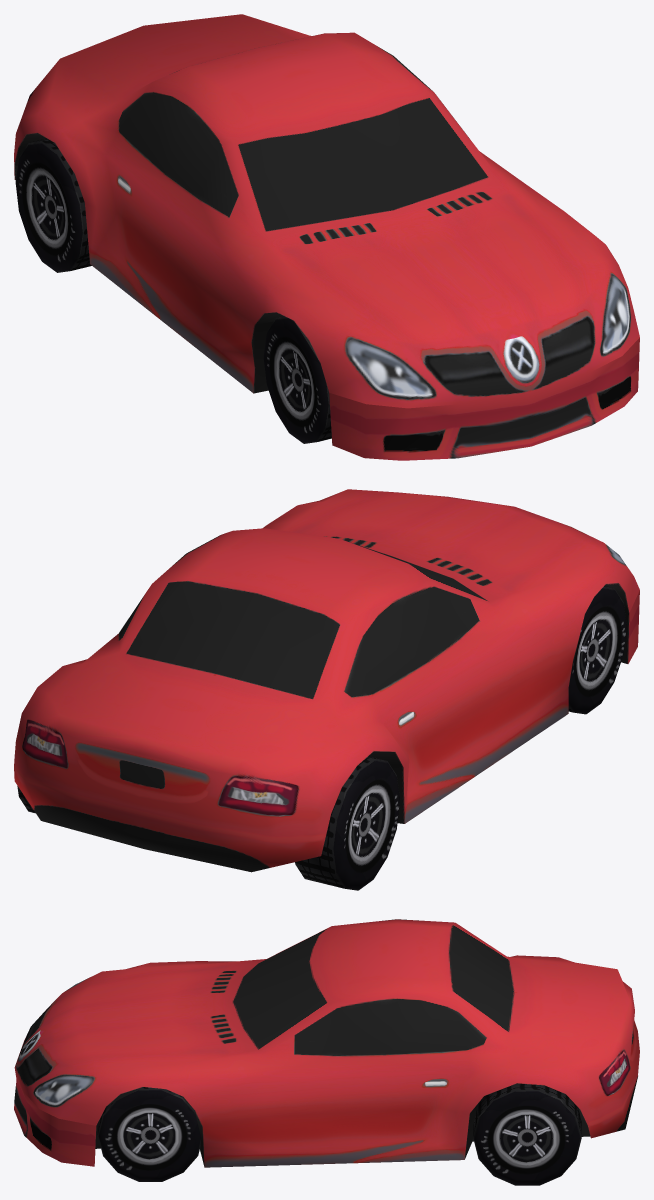
The model's file is SLR.fbx.
The picture shows the model from 3 angles, top to bottom: view 1: azimuth 30°, elevation 25°; view 2: azimuth 150°, elevation 25°; view 3: azimuth 270°, elevation 25°; orthographic projection. The views are drawn at different scales.
Parts seen in each view (by area): view 1: SLRBody, WheelBR, WheelFR; view 2: SLRBody, WheelBR, WheelFR; view 3: SLRBody, WheelBL, WheelFL.
Boxes of the visible parts, x1,y1,x2,y2 form: SLRBody: (14, 14, 639, 460); WheelBR: (15, 138, 91, 272); WheelFR: (263, 316, 331, 443); SLRBody: (14, 489, 639, 872); WheelBR: (295, 756, 400, 890); WheelFR: (568, 586, 626, 714); SLRBody: (14, 919, 639, 1167); WheelBL: (473, 1083, 581, 1185); WheelFL: (97, 1087, 200, 1181).
Size of the model in its own units: 219 by 143 by 458.
